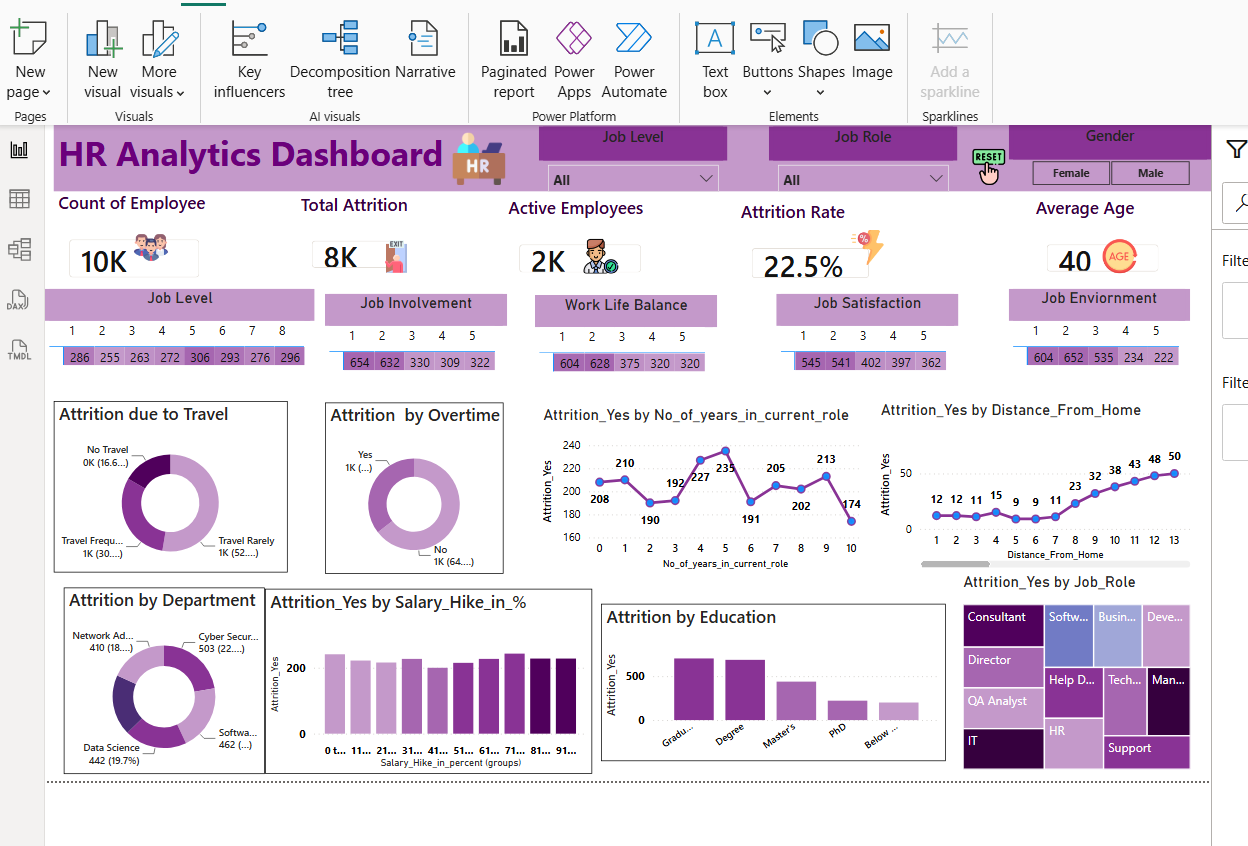

The dashboard page shown, as its layout file describes it:
{"tool":"powerbi","page":{"name":"Page 1","canvas":[1280,720],"ordinal":0},"visuals":[{"type":"cardVisual","title":"Count of Employee","fields":{"Data":["CountNonNull(Employees.Employee_ID)"]},"box":[9.6,72.7,177,112.5],"z":0},{"type":"cardVisual","title":"Total Attrition","fields":{"Data":["Employees.Attrition_No"]},"box":[275.8,74.1,130.4,100.2],"z":1000},{"type":"cardVisual","title":"Active Employees","fields":{"Data":["Employees.Attrition_Yes"]},"box":[503.6,78.2,168.8,101.5],"z":2000},{"type":"cardVisual","title":"Attrition Rate","fields":{"Data":["Employees.Attrition Rate"]},"box":[758.8,82.3,163.3,102.9],"z":3000},{"type":"cardVisual","title":"Average Age","fields":{"Data":["Employees.Average Age"]},"box":[1082.7,78.2,157.8,100.2],"z":4000},{"type":"textbox","box":[21,357.5,177,150],"z":5000},{"type":"donutChart","title":"Attrition by Department","fields":{"Category":["Employees.Department"],"Y":["Employees.Attrition_Yes"]},"box":[20.6,507.7,220.9,204.5],"z":6000},{"type":"treemap","fields":{"Group":["Employees.Job_Role"],"Values":["Employees.Attrition_Yes"]},"box":[1003.1,491.3,259.3,220.9],"z":7000},{"type":"lineChart","fields":{"Category":["Employees.Distance_From_Home"],"Y":["Employees.Attrition_Yes"]},"box":[912.5,301.9,349.9,189.4],"z":8000},{"type":"donutChart","title":"Attrition  by Overtime","fields":{"Category":["Employees.Overtime"],"Y":["Employees.Attrition_Yes"]},"box":[307.4,304.6,196.2,188],"z":9000},{"type":"pivotTable","title":"Job Satisfaction","fields":{"Columns":["Employees.Job_Satisfaction"],"Values":["Employees.Attrition_Yes"]},"box":[802.7,185.2,200.3,94.7],"z":10000},{"type":"pivotTable","title":"Job Enviornment","fields":{"Values":["Employees.Attrition_Yes"],"Columns":["Employees.Environment_Satisfaction"]},"box":[1058,179.8,199,102.9],"z":11000},{"type":"donutChart","title":"Attrition due to Travel","fields":{"Y":["Employees.Attrition_Yes"],"Category":["Employees.Business_Travel"]},"box":[9.6,303.3,256.6,188],"z":12000},{"type":"lineChart","fields":{"Category":["Employees.No_of_years_in_current_role"],"Y":["Employees.Attrition_Yes"]},"box":[542,307.4,359.5,185.2],"z":13000},{"type":"columnChart","title":"Attrition_Yes by Salary_Hike_in_%","fields":{"Category":["Employees.Salary_Hike_in_percent (groups)"],"Y":["Employees.Attrition_Yes"]},"box":[241.5,509.1,359.5,203.1],"z":14000},{"type":"columnChart","title":"Attrition by Education","fields":{"Y":["Employees.Attrition_Yes"],"Category":["Employees.Education"]},"box":[610.6,525.6,378.7,172.9],"z":15000},{"type":"pivotTable","title":"Job Involvement","fields":{"Values":["Employees.Attrition_Yes"],"Columns":["Employees.Job_Involvement"]},"box":[307.4,185.2,200.3,94.7],"z":16000},{"type":"pivotTable","title":"Work Life Balance","fields":{"Values":["Employees.Attrition_Yes"],"Columns":["Employees.Work_life_balance"]},"box":[537.9,186.6,200.3,94.7],"z":17000},{"type":"pivotTable","title":"Job Level","fields":{"Columns":["Employees.Job_Level"],"Values":["Employees.Attrition_Yes"]},"box":[0,179.8,296.4,108.4],"z":18000},{"type":"textbox","box":[9.6,0,1270.7,72.7],"z":19000},{"type":"image","box":[426.8,8.2,98.8,57.6],"z":20000},{"type":"slicer","title":"Gender","fields":{"Values":["Employees.Gender"]},"box":[1058,0,222.3,72.7],"z":21000},{"type":"slicer","title":"Gender","fields":{"Values":["Employees.Gender"]},"box":[1058,0,222.3,72.7],"z":22000},{"type":"slicer","title":"Job Level","fields":{"Values":["Employees.Job_Level"]},"box":[542,1.4,207.2,72.7],"z":23000},{"type":"slicer","title":"Job Role","fields":{"Values":["Employees.Job_Role"]},"box":[794.5,1.4,207.2,72.7],"z":24000},{"type":"image","box":[1001.7,26.1,68.6,39.8],"z":25000},{"type":"image","box":[588.7,124.9,43.9,38.4],"z":25001},{"type":"image","box":[881,115.3,43.9,38.4],"z":25002},{"type":"image","box":[1145.8,124.9,68.6,38.4],"z":25003},{"type":"image","box":[363.6,124.9,43.9,38.4],"z":25004},{"type":"image","box":[94.7,115.3,43.9,38.4],"z":25005}]}

Visuals, with their boxes on the page's 1280x720 design canvas (x1, y1, x2, y2). These are canvas units, not pixel positions in the 1248x846 screenshot, which may show the page scaled, cropped or inside an application window:
"Count of Employee" cardVisual: crop(10, 73, 187, 185)
"Total Attrition" cardVisual: crop(276, 74, 406, 174)
"Active Employees" cardVisual: crop(504, 78, 672, 180)
"Attrition Rate" cardVisual: crop(759, 82, 922, 185)
"Average Age" cardVisual: crop(1083, 78, 1240, 178)
textbox: crop(21, 358, 198, 508)
"Attrition by Department" donutChart: crop(21, 508, 242, 712)
treemap - Employees.Job_Role x Employees.Attrition_Yes: crop(1003, 491, 1262, 712)
lineChart - Employees.Distance_From_Home x Employees.Attrition_Yes: crop(912, 302, 1262, 491)
"Attrition  by Overtime" donutChart: crop(307, 305, 504, 493)
"Job Satisfaction" pivotTable: crop(803, 185, 1003, 280)
"Job Enviornment" pivotTable: crop(1058, 180, 1257, 283)
"Attrition due to Travel" donutChart: crop(10, 303, 266, 491)
lineChart - Employees.No_of_years_in_current_role x Employees.Attrition_Yes: crop(542, 307, 902, 493)
"Attrition_Yes by Salary_Hike_in_%" columnChart: crop(242, 509, 601, 712)
"Attrition by Education" columnChart: crop(611, 526, 989, 698)
"Job Involvement" pivotTable: crop(307, 185, 508, 280)
"Work Life Balance" pivotTable: crop(538, 187, 738, 281)
"Job Level" pivotTable: crop(0, 180, 296, 288)
textbox: crop(10, 0, 1280, 73)
image: crop(427, 8, 526, 66)
"Gender" slicer: crop(1058, 0, 1280, 73)
"Gender" slicer: crop(1058, 0, 1280, 73)
"Job Level" slicer: crop(542, 1, 749, 74)
"Job Role" slicer: crop(794, 1, 1002, 74)
image: crop(1002, 26, 1070, 66)
image: crop(589, 125, 633, 163)
image: crop(881, 115, 925, 154)
image: crop(1146, 125, 1214, 163)
image: crop(364, 125, 408, 163)
image: crop(95, 115, 139, 154)
